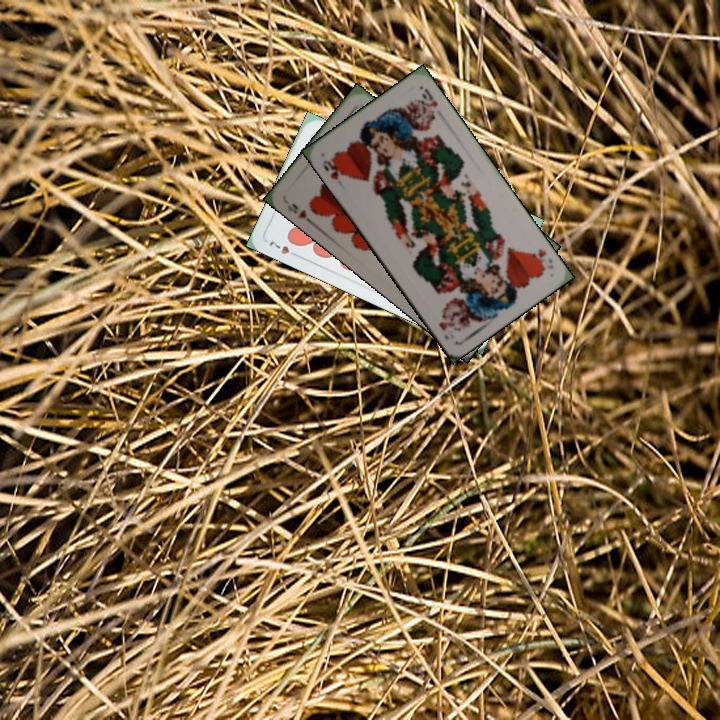H7: (265, 237, 302, 260)
H9: (283, 199, 316, 227)
HO: (318, 154, 348, 182), (527, 245, 556, 273)
